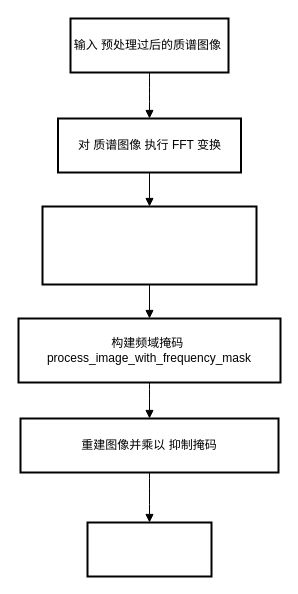
The diagram is 298 pixels wide and 594 high, and some of its shapes have lost their labels. The box of each missing label's shape, as (x1, y1, x2, y2) in pixels:
计算频域掩码参数 fill_distance, fill_width: (41, 205, 257, 285)
返回结果: (86, 521, 212, 577)
